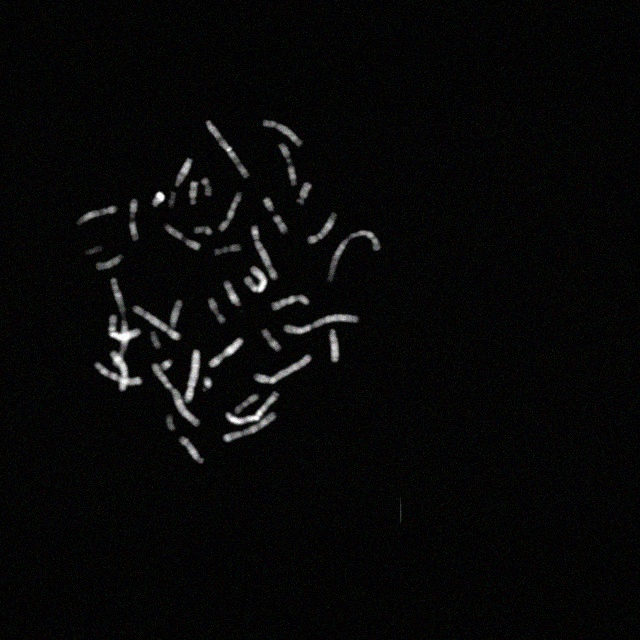chromosome: (152, 364, 200, 426), (327, 230, 381, 282), (206, 120, 250, 178), (226, 390, 280, 424), (110, 277, 130, 367), (254, 354, 312, 384), (132, 305, 180, 341), (222, 412, 278, 442), (284, 314, 360, 334), (252, 225, 278, 279), (209, 337, 243, 369), (264, 121, 304, 147), (95, 362, 142, 384), (164, 224, 202, 250), (218, 192, 242, 232), (307, 212, 338, 242), (183, 350, 200, 404), (108, 312, 140, 340), (77, 205, 116, 227), (278, 143, 298, 185), (110, 351, 128, 391), (244, 266, 268, 294), (180, 436, 204, 464), (272, 294, 310, 310), (175, 158, 193, 188), (128, 198, 140, 242), (96, 254, 124, 272), (234, 393, 260, 412), (223, 281, 241, 307), (208, 298, 226, 324), (263, 328, 281, 352), (329, 330, 341, 362), (170, 300, 183, 328), (297, 183, 313, 205), (214, 244, 242, 256), (188, 182, 200, 206), (273, 215, 289, 232), (85, 244, 104, 256), (151, 192, 165, 208), (166, 414, 177, 431), (202, 178, 212, 196), (194, 225, 212, 235), (150, 331, 160, 349), (168, 190, 176, 208), (264, 198, 274, 212), (202, 378, 212, 392), (161, 360, 173, 370)
